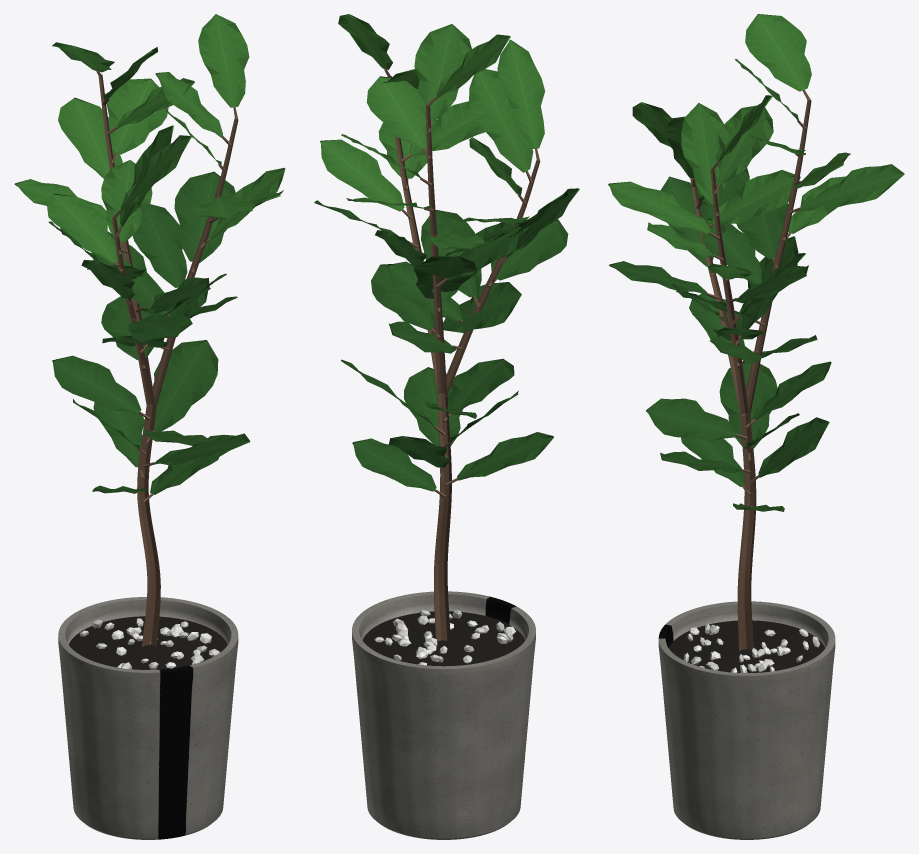
Rendered from Office_Plant_Fiddle_Leaf_Fig.glb.
3 views of the same model, side by side, from view 1: azimuth 30°, elevation 25°; view 2: azimuth 150°, elevation 25°; view 3: azimuth 270°, elevation 25° (orthographic). The views are drawn at different scales.
Parts seen in each view (by area): view 1: Pot_Concrete_Fluted, Leaves_Lower_Deep, Leaves_Crown_Fresh, Trunk_Branches, Soil_Bed, River_Pebble_Dressing; view 2: Pot_Concrete_Fluted, Leaves_Lower_Deep, Leaves_Crown_Fresh, Trunk_Branches, Soil_Bed, River_Pebble_Dressing; view 3: Pot_Concrete_Fluted, Leaves_Lower_Deep, Leaves_Crown_Fresh, Trunk_Branches, Soil_Bed, River_Pebble_Dressing.
Part boxes in pixels (x1=…): Pot_Concrete_Fluted: x1=58, y1=597, x2=238, y2=839; Leaves_Lower_Deep: x1=48, y1=171, x2=250, y2=494; Leaves_Crown_Fresh: x1=14, y1=14, x2=285, y2=263; Trunk_Branches: x1=96, y1=71, x2=238, y2=648; Soil_Bed: x1=68, y1=616, x2=227, y2=669; River_Pebble_Dressing: x1=79, y1=618, x2=219, y2=669; Pot_Concrete_Fluted: x1=352, y1=591, x2=535, y2=839; Leaves_Lower_Deep: x1=314, y1=188, x2=579, y2=491; Leaves_Crown_Fresh: x1=320, y1=14, x2=544, y2=249; Trunk_Branches: x1=384, y1=69, x2=540, y2=642; Soil_Bed: x1=362, y1=611, x2=525, y2=666; River_Pebble_Dressing: x1=374, y1=609, x2=515, y2=665; Pot_Concrete_Fluted: x1=658, y1=601, x2=835, y2=839; Leaves_Lower_Deep: x1=609, y1=168, x2=831, y2=511; Leaves_Crown_Fresh: x1=608, y1=14, x2=904, y2=279; Trunk_Branches: x1=690, y1=89, x2=811, y2=651; Soil_Bed: x1=669, y1=620, x2=825, y2=672; River_Pebble_Dressing: x1=683, y1=623, x2=819, y2=672.
Bounding box in the file's own units: 0.6403 × 2 × 0.7051.
Materials: 6 (3 with a texture image).
